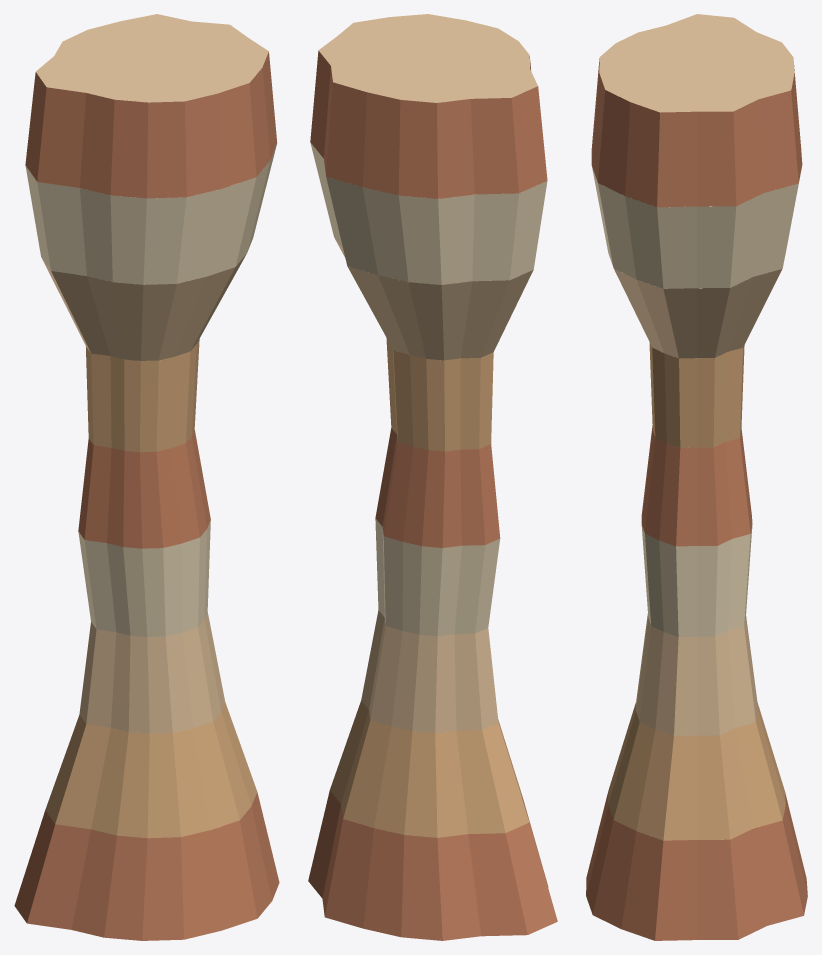
Rendered from spire.glb.
The picture shows the model from 3 angles, left to right: view 1: azimuth 30°, elevation 25°; view 2: azimuth 150°, elevation 25°; view 3: azimuth 270°, elevation 25°; orthographic projection.
Parts seen in each view (by area): view 1: slender-capped-hoodoo; view 2: slender-capped-hoodoo; view 3: slender-capped-hoodoo.
Boxes of the visible parts, x1,y1,x2,y2 form: slender-capped-hoodoo: (14, 14, 279, 940); slender-capped-hoodoo: (308, 14, 557, 940); slender-capped-hoodoo: (586, 14, 807, 940).
Bounding box in the file's own units: 2.33 × 8 × 1.95.
